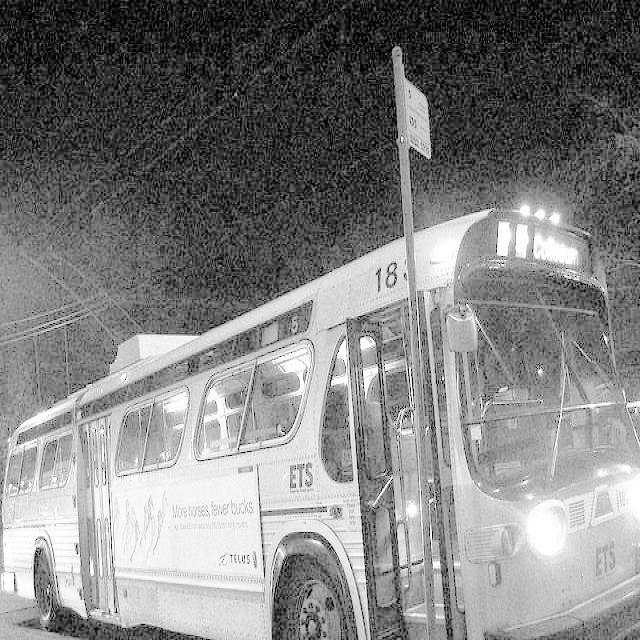Bus: (17, 194, 640, 640)
